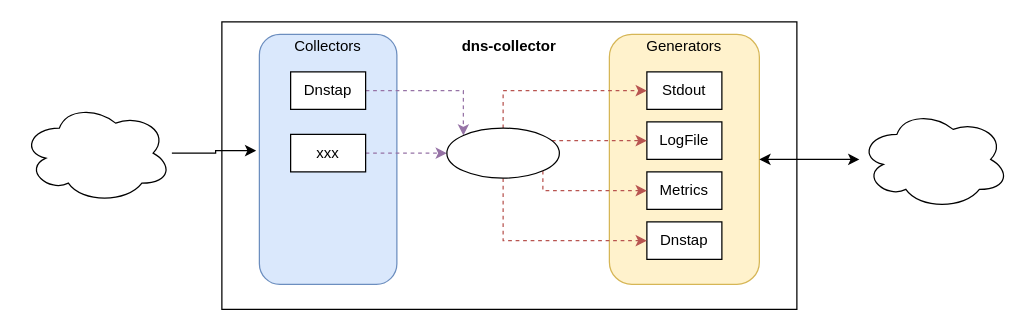
The diagram is 1031 pixels wide and 331 high, and some of its shapes have lost their labels. Each missing label, with the centre of its shape:
"DNS traffics, logs" goes at pixel 96 152.
"Multiplexer 1 to X" goes at pixel 502 152.
"Other Systems" goes at pixel 933 158.
